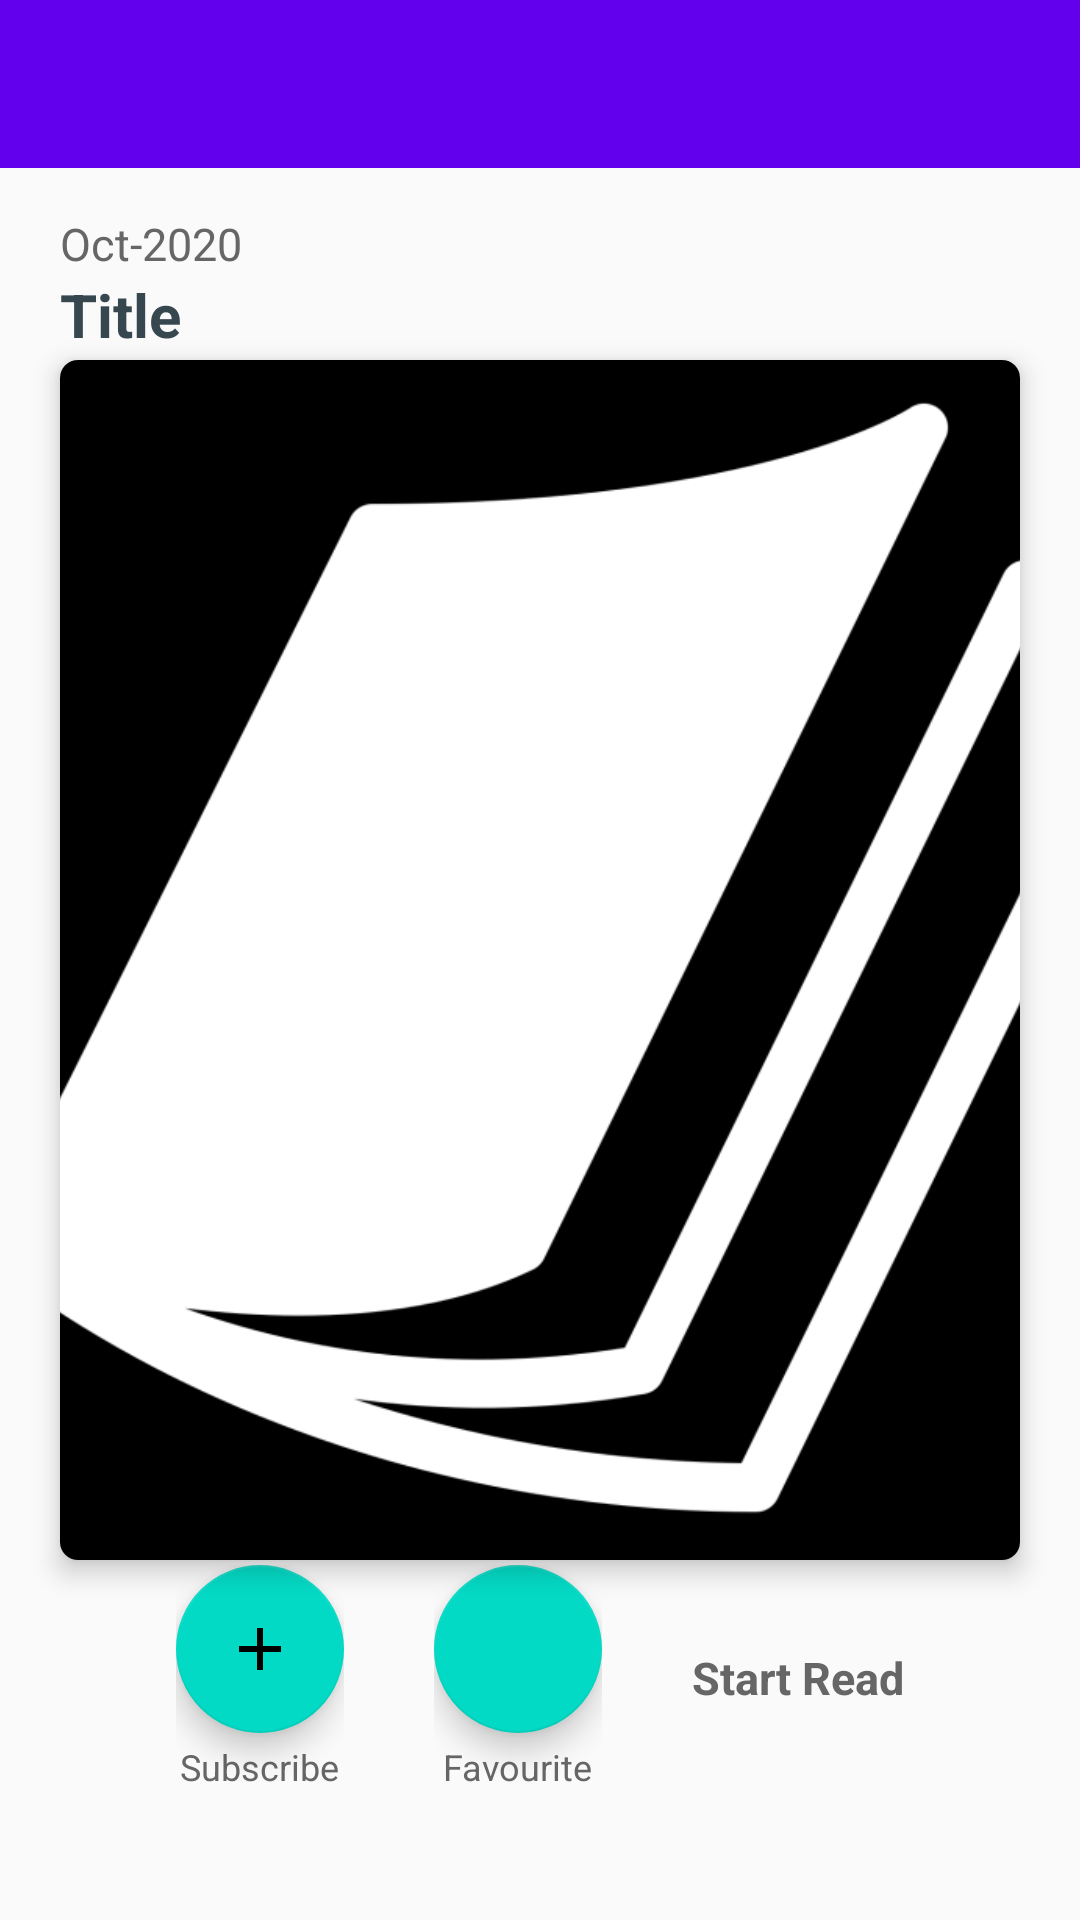

Locate icon controls on the screen. Image size 1080px×1920px, boxes as (x1, y1, x2, y2).
add: (176, 1565, 344, 1733)
